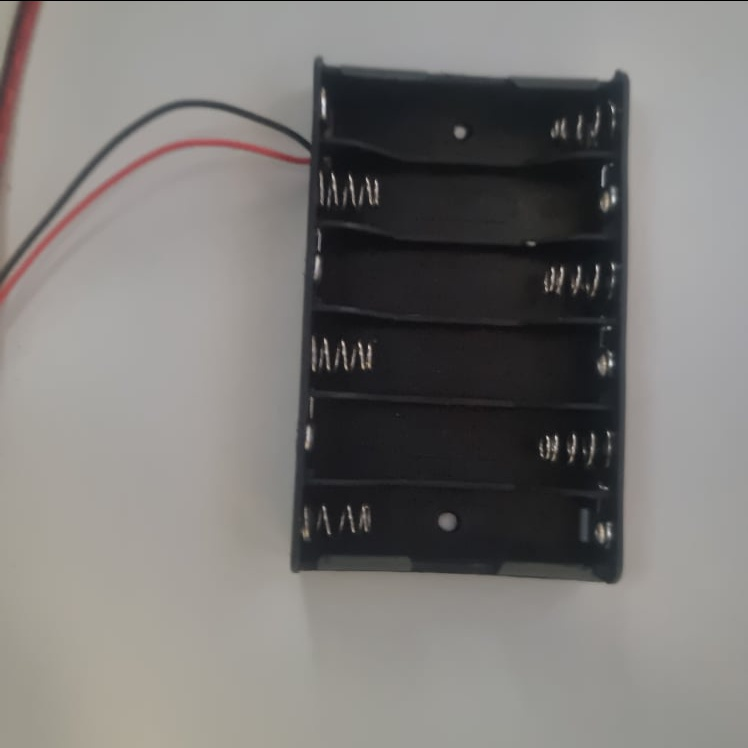BATTERY BOX: (291, 67, 628, 584)
